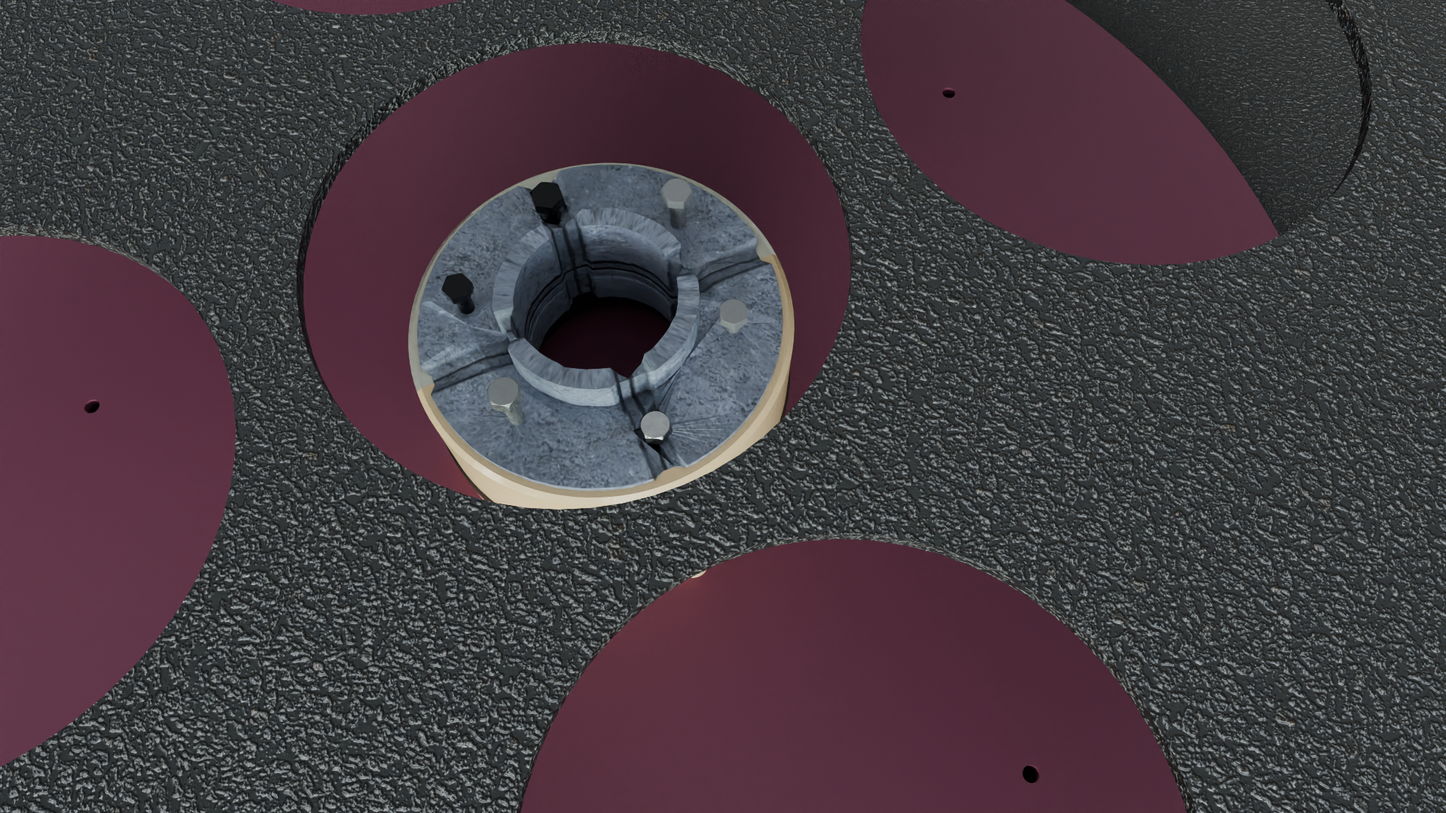bolt: (487, 377, 521, 408), (639, 411, 672, 440), (529, 181, 563, 209), (719, 298, 748, 326), (441, 273, 471, 300), (661, 178, 693, 203)
